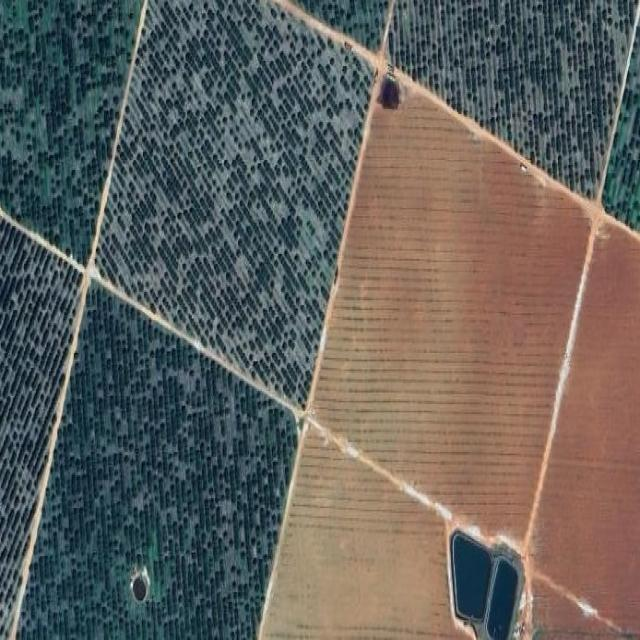noVegetation: (260, 83, 640, 636)
vegetation: (0, 2, 374, 637), (388, 0, 638, 198), (602, 18, 640, 229), (299, 0, 388, 50)
